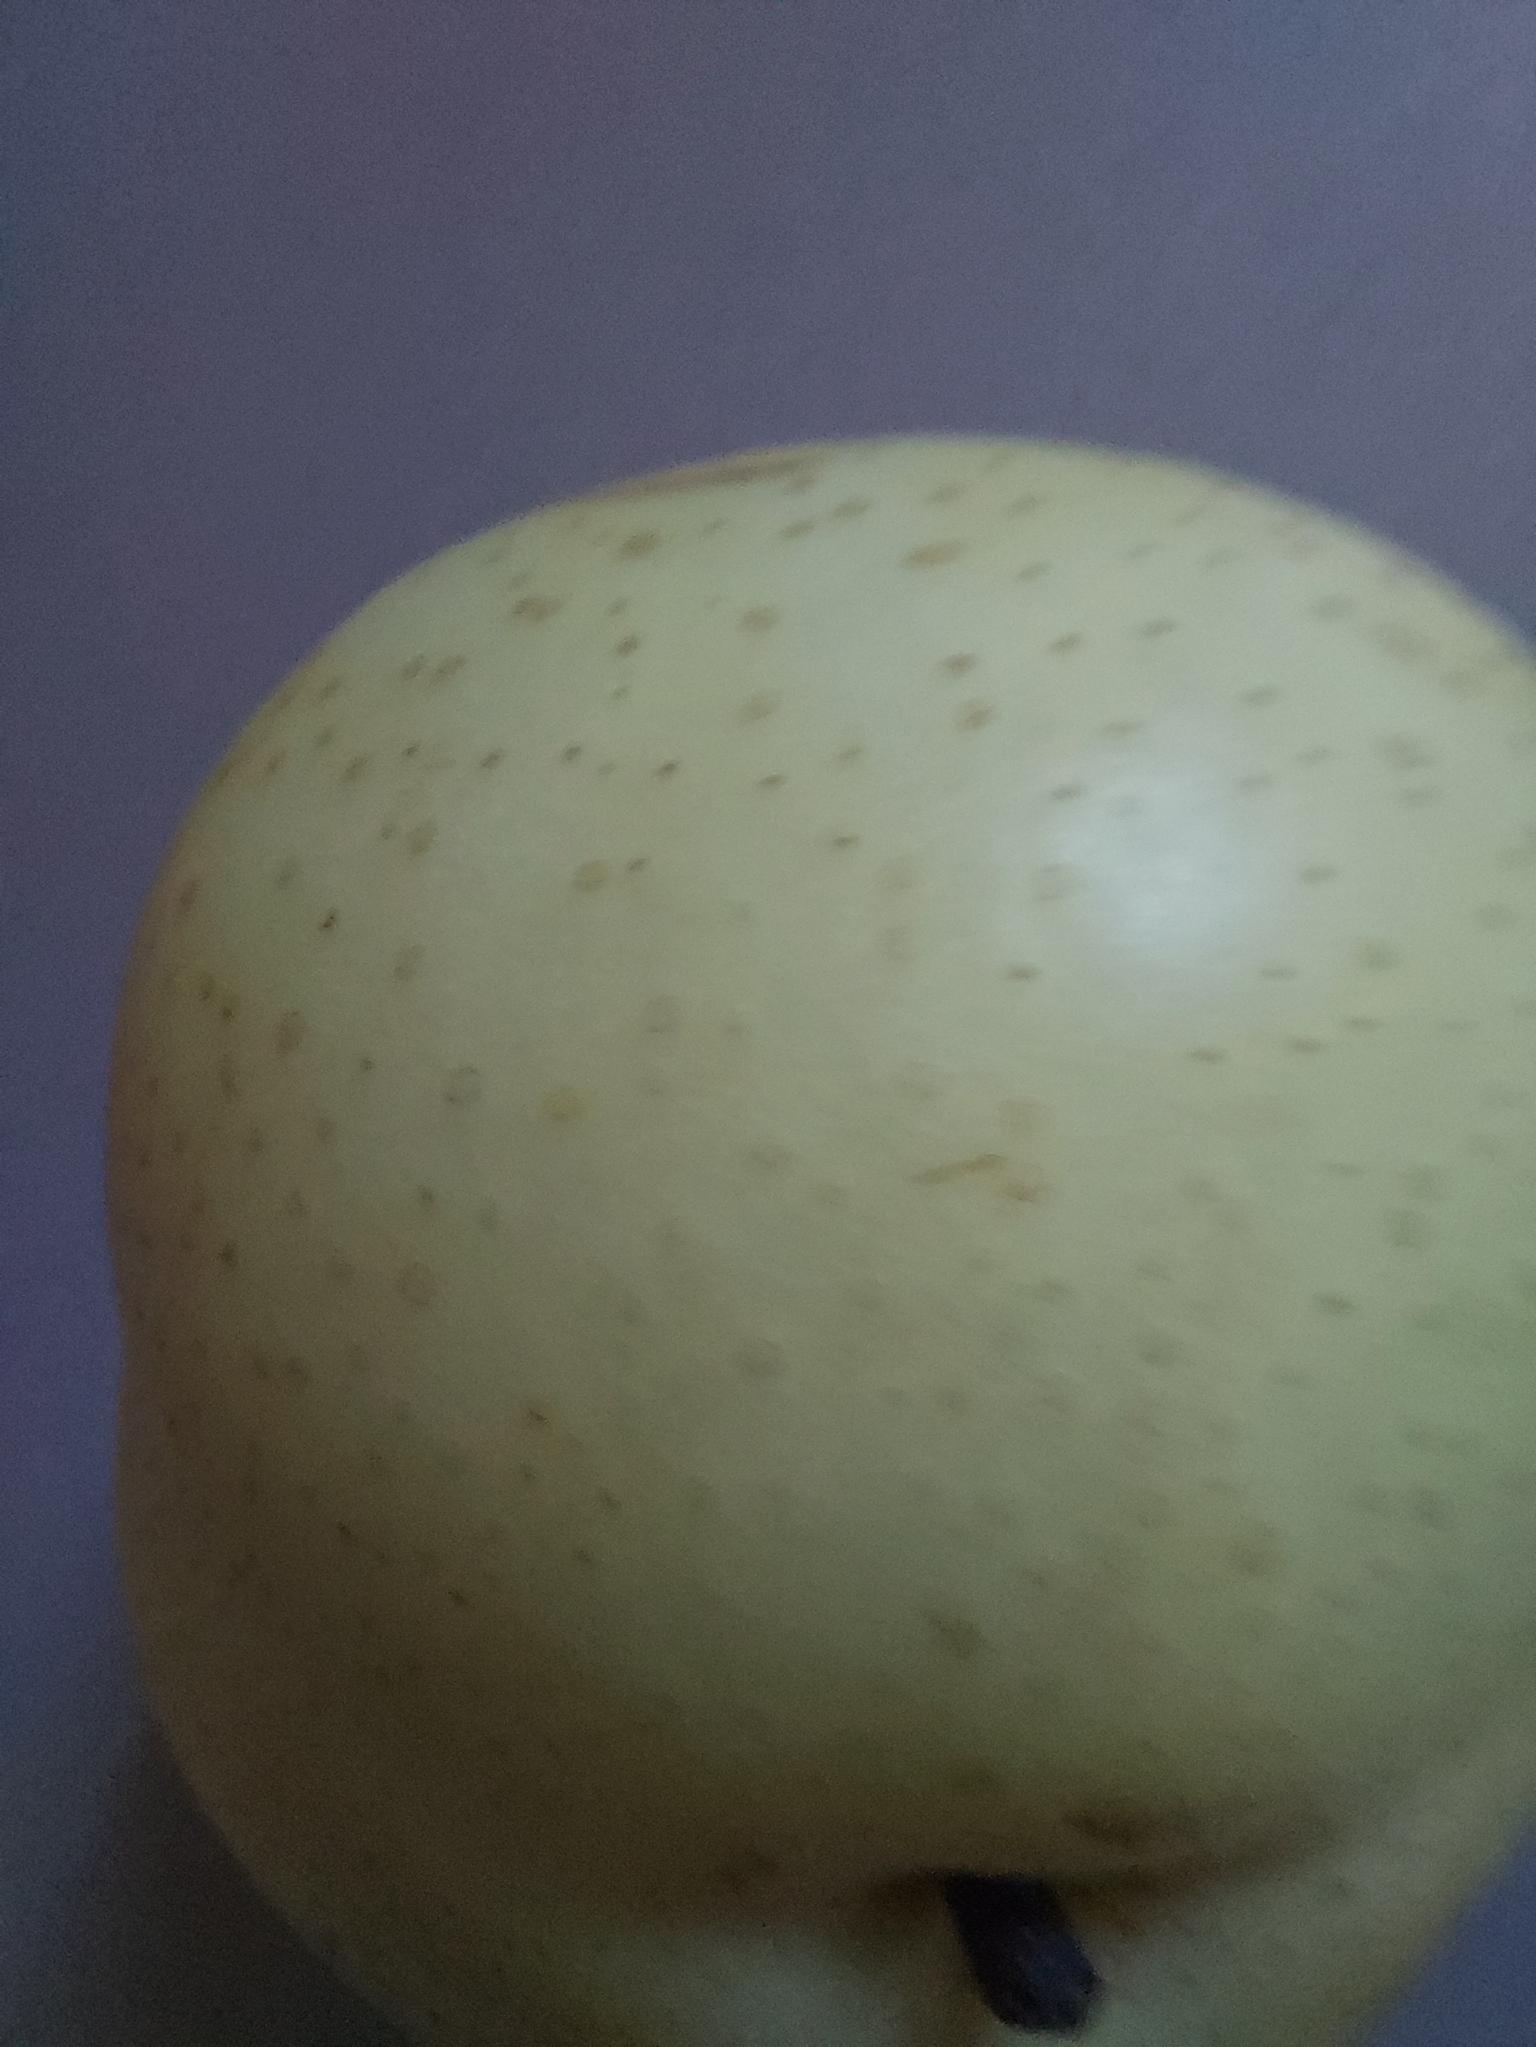Good Pear: (84, 415, 1536, 2047)
